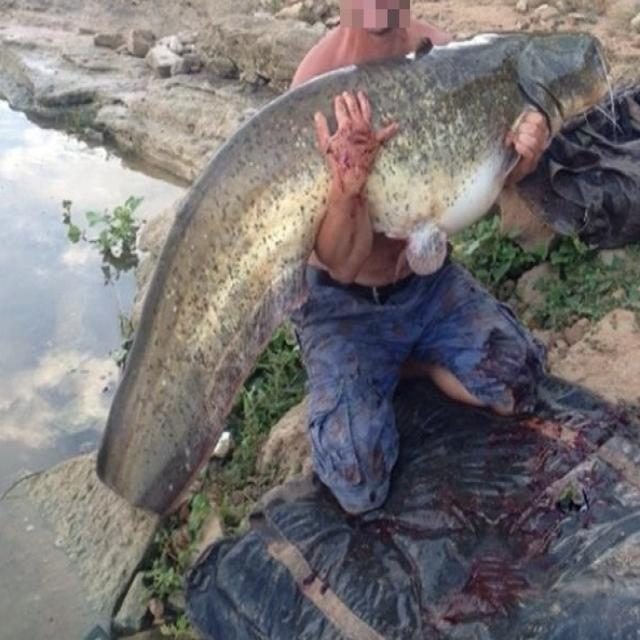Catfish: (119, 35, 624, 538)
